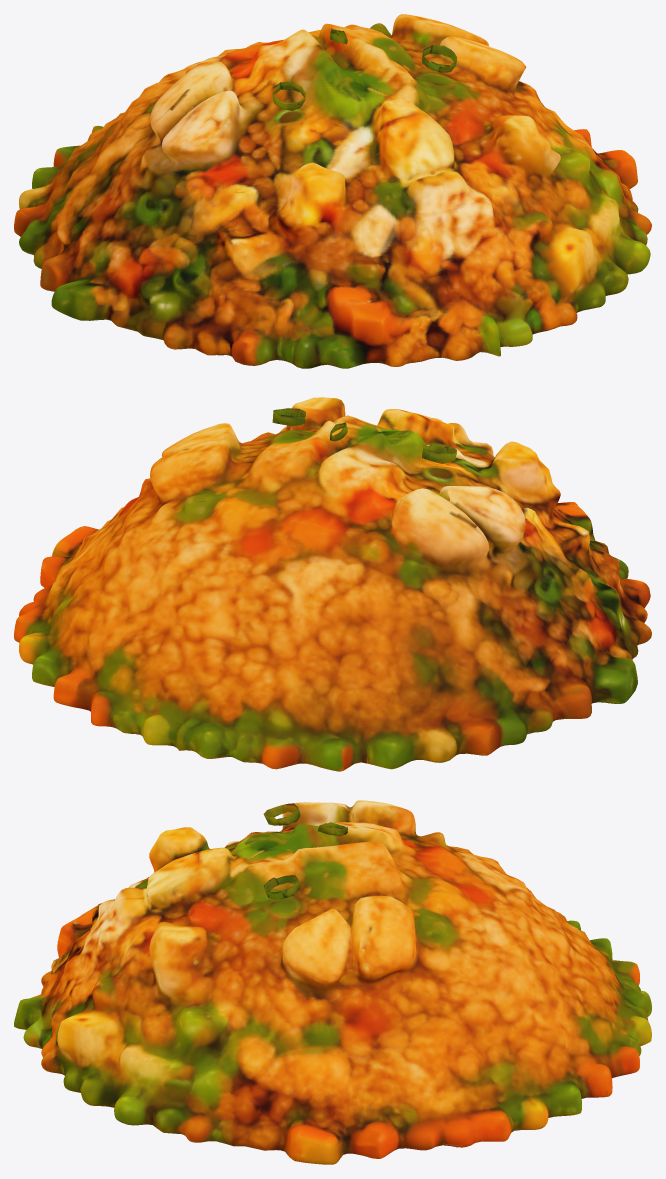
File: base_basic_shaded.fbx
The picture shows the model from 3 angles, top to bottom: view 1: azimuth 30°, elevation 25°; view 2: azimuth 150°, elevation 25°; view 3: azimuth 270°, elevation 25°; orthographic projection.
Parts seen in each view (by area): view 1: model; view 2: model; view 3: model.
Part boxes in pixels (x1,y1,x2,y2): model: (14, 14, 651, 368); model: (14, 397, 651, 771); model: (14, 800, 651, 1164).
Bounding box in the file's own units: 189 × 65.88 × 185.
